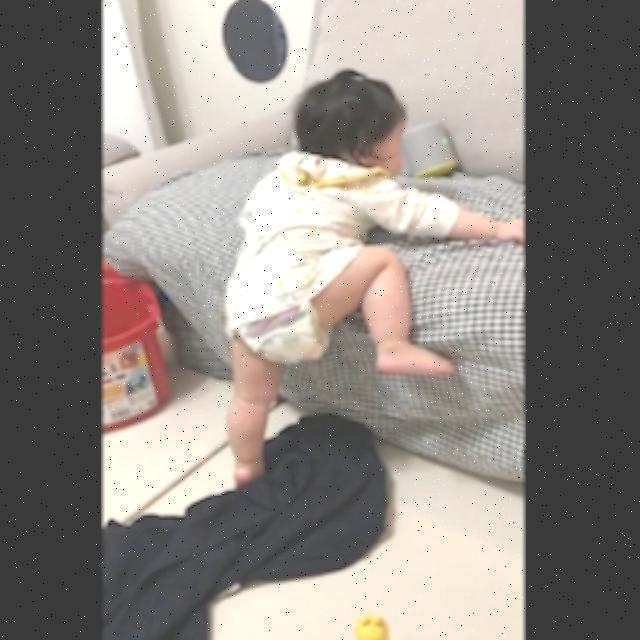child: (221, 70, 525, 481)
